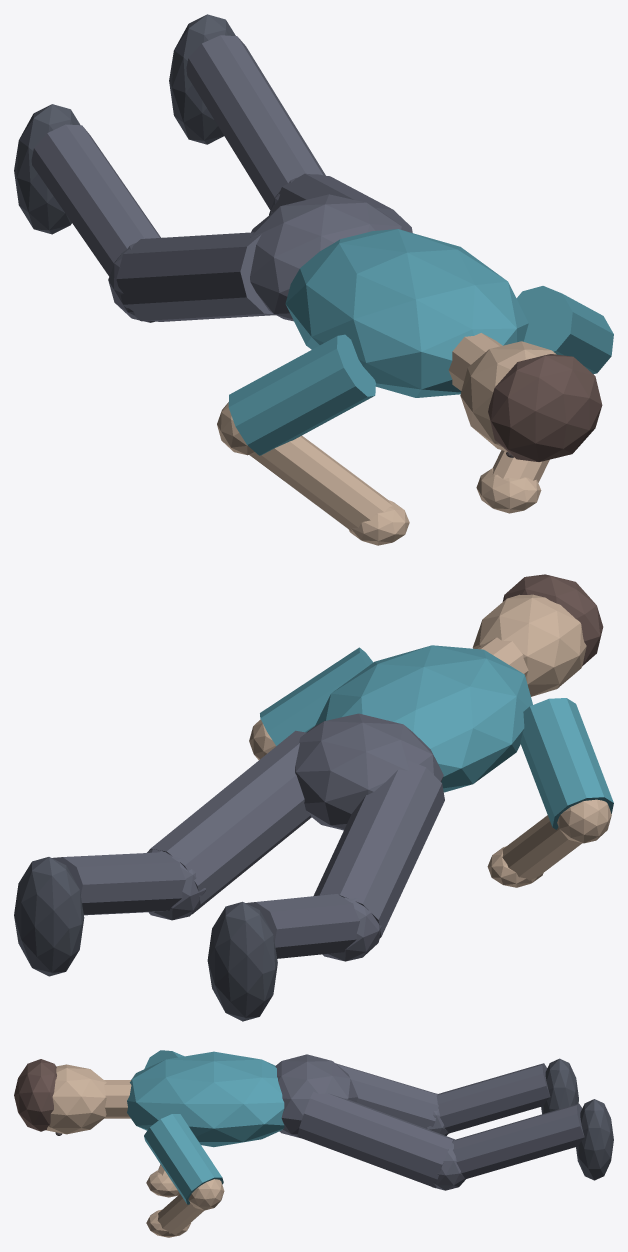
The picture shows the model from 3 angles, top to bottom: view 1: azimuth 30°, elevation 25°; view 2: azimuth 150°, elevation 25°; view 3: azimuth 270°, elevation 25°; orthographic projection. The views are drawn at different scales.
Parts seen in each view (by area): view 1: world; view 2: world; view 3: world.
Part boxes in pixels (box(x1,y1,x2,y2)): world: box(14, 14, 613, 545); world: box(14, 574, 613, 1021); world: box(14, 1050, 613, 1237).
Bounding box in the file's own units: 0.93 × 0.565 × 2.
